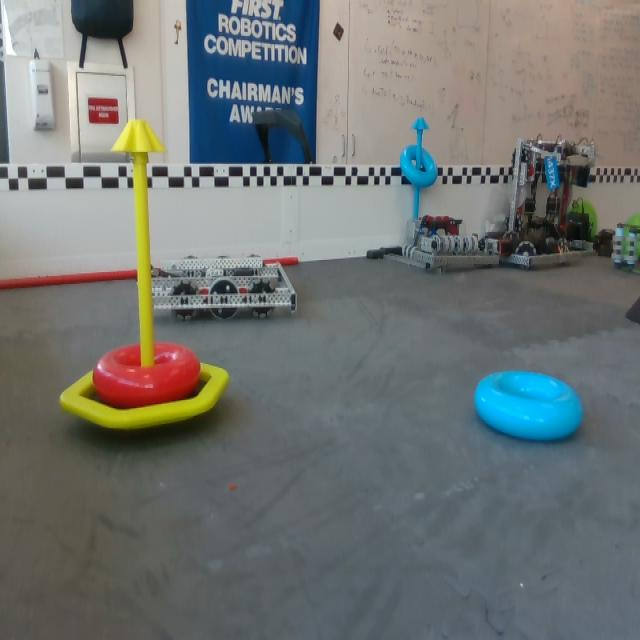Blue-Ring: (475, 371, 587, 447), (400, 143, 440, 188)
Mobile-Goal: (61, 119, 231, 436)
Red-Ring: (91, 341, 205, 404)
Yellow-Stake-Head: (112, 118, 170, 158)
zblue-Stake-Head: (411, 118, 430, 130)
